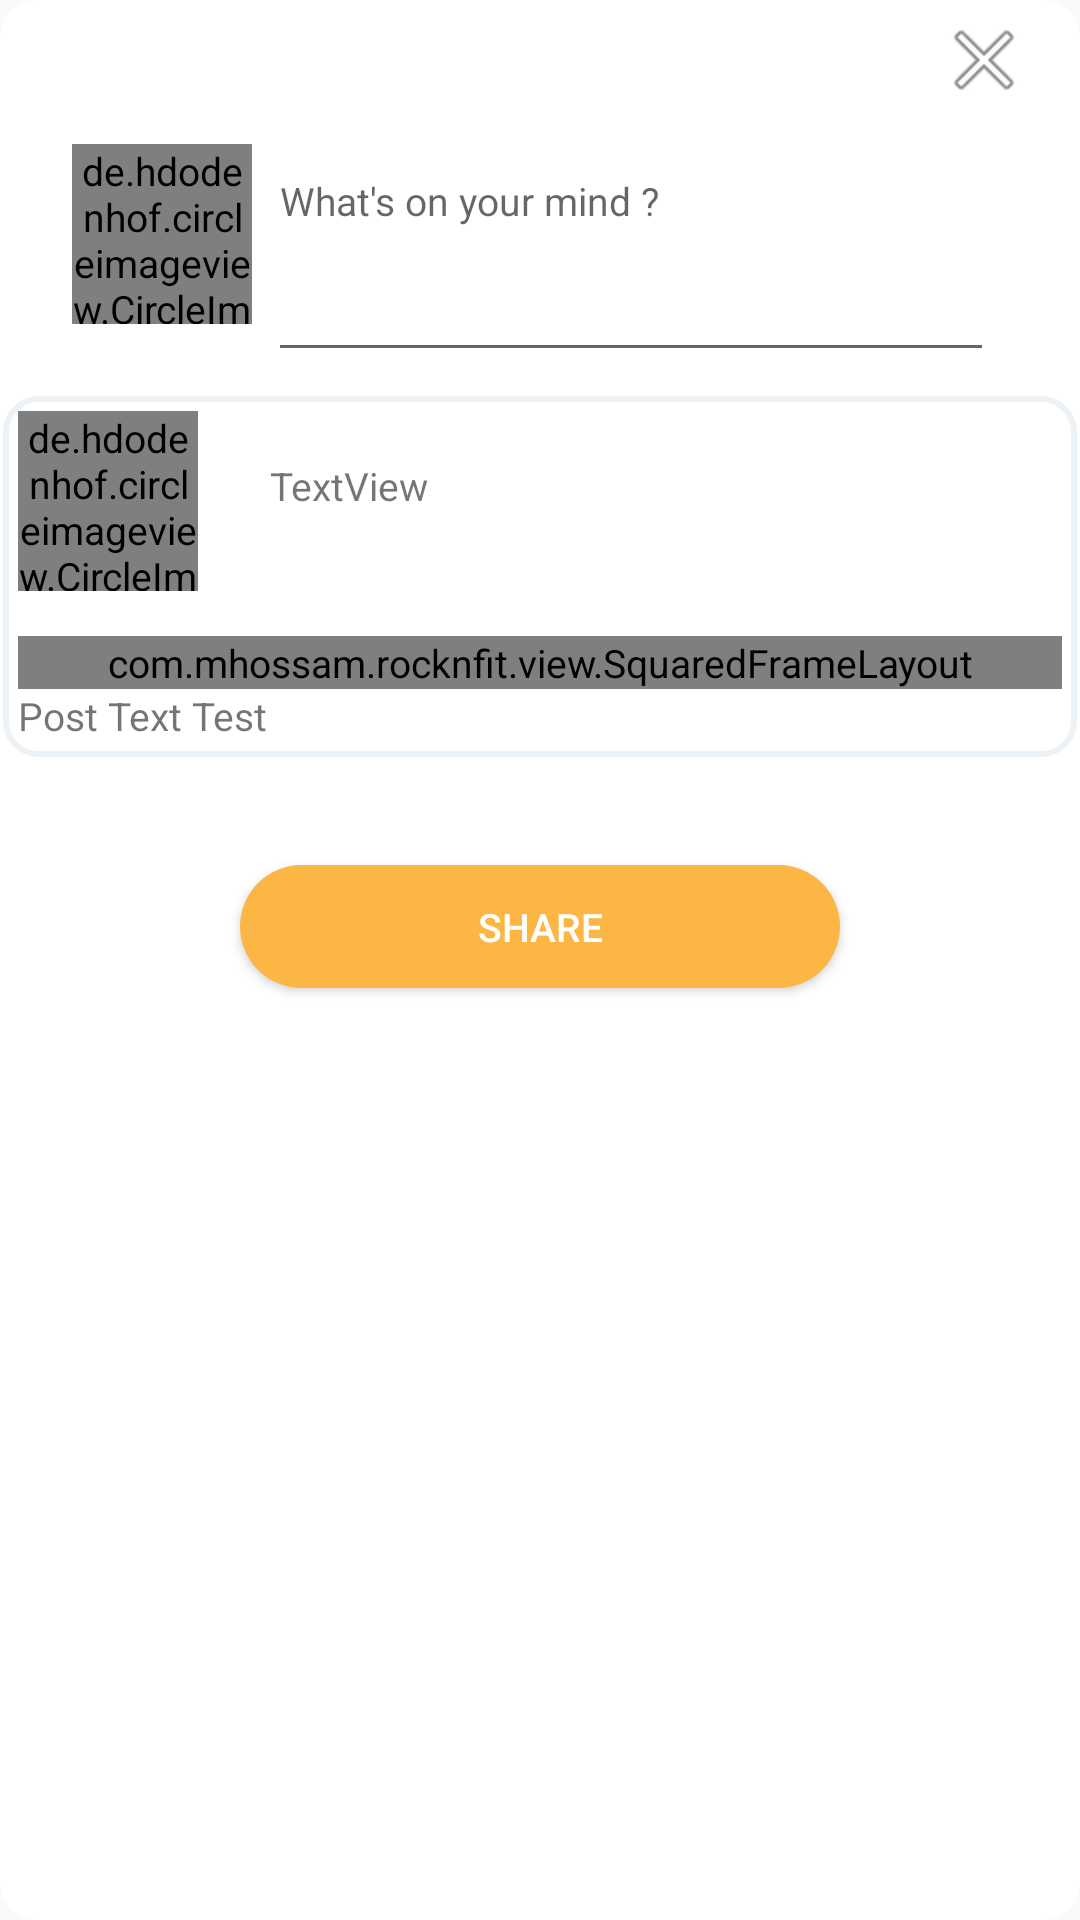

Named icons in this screenshot (1080*1920) and their bounding boxes, (x1, y1, x2, y2):
close clear cancel: (954, 30, 1014, 90)
